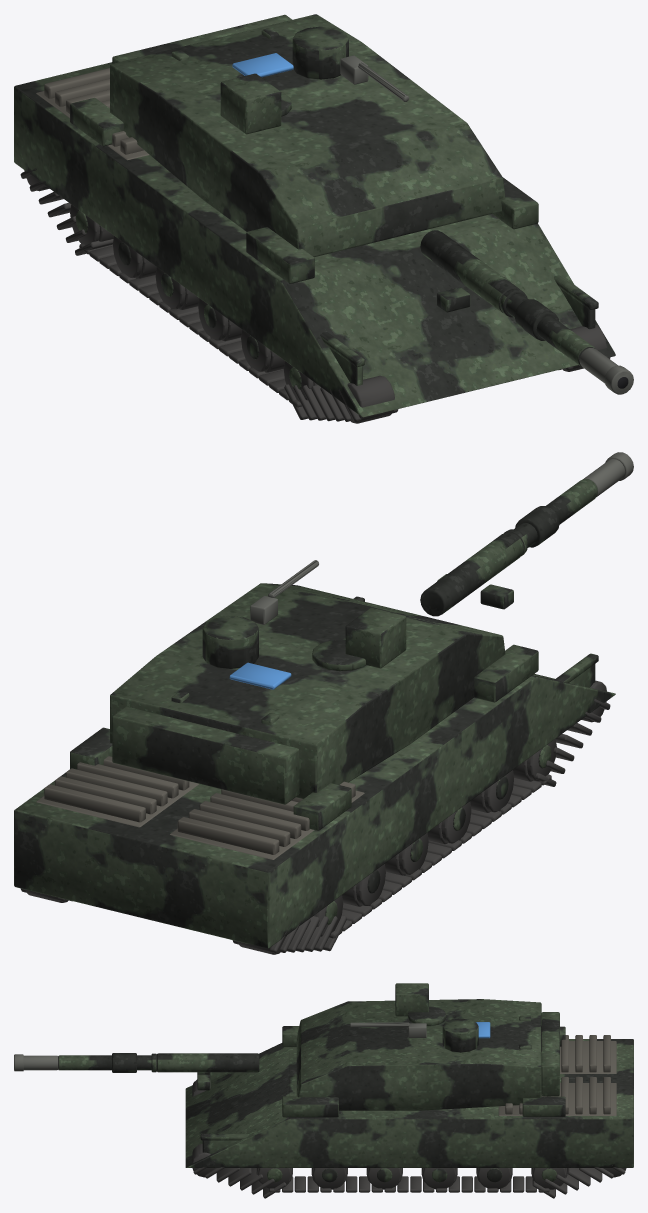
File: mbt_e4_uk_challenger2_LOD0.glb
The picture shows the model from 3 angles, top to bottom: view 1: azimuth 30°, elevation 25°; view 2: azimuth 150°, elevation 25°; view 3: azimuth 270°, elevation 25°; orthographic projection. The views are drawn at different scales.
Visible parts, largest first — view 1: mbt_e4_uk_challenger2_LOD0_body, mbt_e4_uk_challenger2_LOD0_track, mbt_e4_uk_challenger2_LOD0_deck, mbt_e4_uk_challenger2_LOD0_gun, mbt_e4_uk_challenger2_LOD0_team; view 2: mbt_e4_uk_challenger2_LOD0_body, mbt_e4_uk_challenger2_LOD0_deck, mbt_e4_uk_challenger2_LOD0_track, mbt_e4_uk_challenger2_LOD0_gun, mbt_e4_uk_challenger2_LOD0_team; view 3: mbt_e4_uk_challenger2_LOD0_body, mbt_e4_uk_challenger2_LOD0_track, mbt_e4_uk_challenger2_LOD0_deck, mbt_e4_uk_challenger2_LOD0_gun.
Boxes of the visible parts, left/top/right/bottom form: mbt_e4_uk_challenger2_LOD0_body: left=14, top=14, right=615, bottom=417; mbt_e4_uk_challenger2_LOD0_track: left=20, top=168, right=610, bottom=423; mbt_e4_uk_challenger2_LOD0_deck: left=36, top=68, right=149, bottom=160; mbt_e4_uk_challenger2_LOD0_gun: left=340, top=55, right=633, bottom=394; mbt_e4_uk_challenger2_LOD0_team: left=232, top=53, right=293, bottom=77; mbt_e4_uk_challenger2_LOD0_body: left=14, top=479, right=615, bottom=948; mbt_e4_uk_challenger2_LOD0_deck: left=36, top=756, right=364, bottom=859; mbt_e4_uk_challenger2_LOD0_track: left=20, top=680, right=610, bottom=954; mbt_e4_uk_challenger2_LOD0_gun: left=250, top=452, right=633, bottom=624; mbt_e4_uk_challenger2_LOD0_team: left=229, top=662, right=291, bottom=689; mbt_e4_uk_challenger2_LOD0_body: left=58, top=983, right=633, bottom=1182; mbt_e4_uk_challenger2_LOD0_track: left=192, top=1079, right=626, bottom=1198; mbt_e4_uk_challenger2_LOD0_deck: left=498, top=1035, right=616, bottom=1115; mbt_e4_uk_challenger2_LOD0_gun: left=14, top=1022, right=550, bottom=1096.
Size of the model in its own units: 3.52 by 3.08 by 11.5.
Materials: 6 (1 with a texture image).
